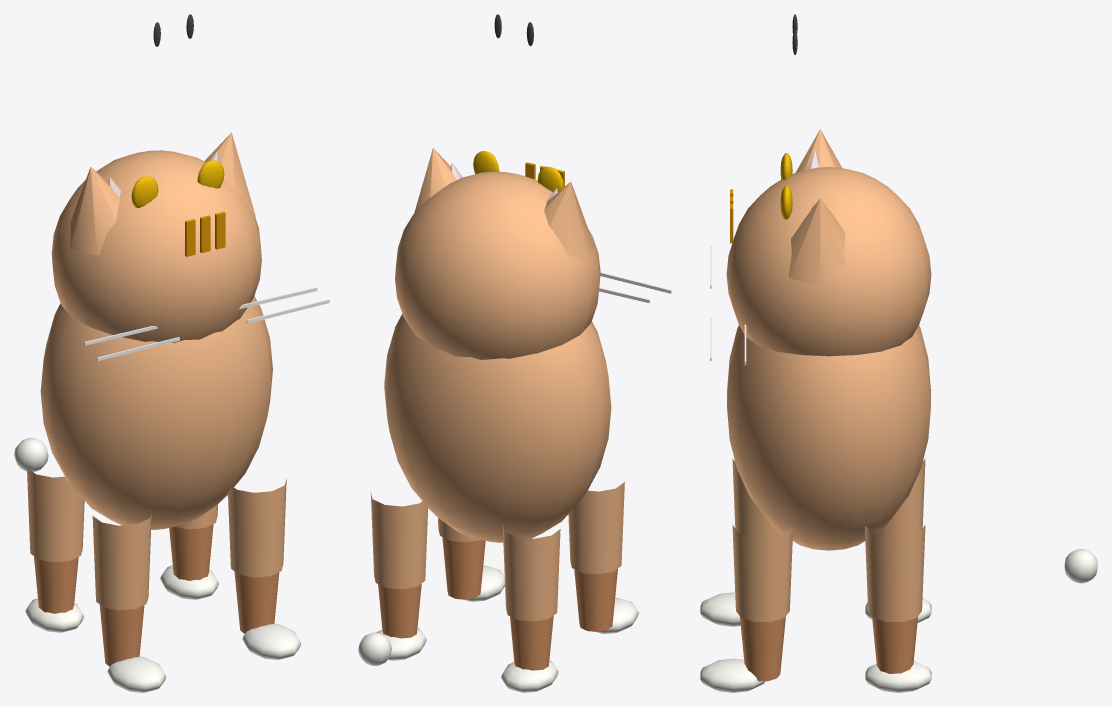
The model's file is cat-normal.glb.
3 views of the same model, side by side, from view 1: azimuth 30°, elevation 25°; view 2: azimuth 150°, elevation 25°; view 3: azimuth 270°, elevation 25° (orthographic). The views are drawn at different scales.
Parts seen in each view (by area): view 1: body, head, upper-leg--0.45 (×2), upper-leg-0.45, lower-leg--0.45 (×2), lower-leg-0.45 (×2), ear-r, paw--0.45 (×2), paw-0.45 (×2), ear-l, tail-tip, iris-l (+1 smaller); view 2: body, head, upper-leg--0.45 (×2), upper-leg-0.45, lower-leg--0.45 (×2), lower-leg-0.45 (×2), ear-r, paw--0.45 (×2), paw-0.45 (×2), ear-l, tail-tip, iris-l; view 3: body, head, upper-leg-0.45 (×2), lower-leg-0.45 (×2), ear-l, upper-leg--0.45 (×2), paw-0.45 (×2), paw--0.45, tail-tip, ear-r.
Boxes of the visible parts, x1,y1,x2,y2 form: body: (40,296,272,529); head: (51,150,261,342); upper-leg--0.45 (×2): (27,468,151,610); upper-leg-0.45: (228,479,286,577); lower-leg--0.45 (×2): (34,556,144,666); lower-leg-0.45 (×2): (169,524,279,633); ear-r: (70,167,120,255); paw--0.45 (×2): (25,598,166,692); paw-0.45 (×2): (160,565,301,659); ear-l: (204,132,255,216); tail-tip: (14,438,48,471); iris-l: (131,176,158,207); body: (384,314,611,542); head: (395,171,600,359); upper-leg--0.45 (×2): (502,482,624,621); upper-leg-0.45: (370,492,428,589); lower-leg--0.45 (×2): (510,568,617,670); lower-leg-0.45 (×2): (378,537,485,638); ear-r: (544,181,594,263); paw--0.45 (×2): (501,597,638,692); paw-0.45 (×2): (377,565,504,660); ear-l: (414,148,456,212); tail-tip: (358,632,391,665); iris-l: (537,166,563,191); body: (727,325,930,550); head: (726,167,931,356); upper-leg-0.45 (×2): (732,524,925,621); lower-leg-0.45 (×2): (740,616,917,681); ear-l: (788,198,845,286); upper-leg--0.45 (×2): (732,458,925,536); paw-0.45 (×2): (700,658,931,692); paw--0.45: (700,592,740,626); tail-tip: (1064,549,1097,583); ear-r: (796,129,841,172).
Size of the model in its own units: 1.58 by 4.02 by 2.29.
